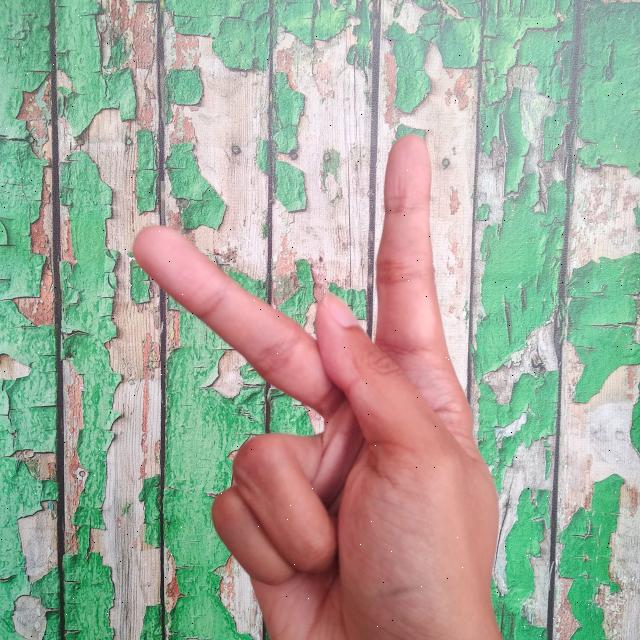K: (129, 127, 505, 640)
